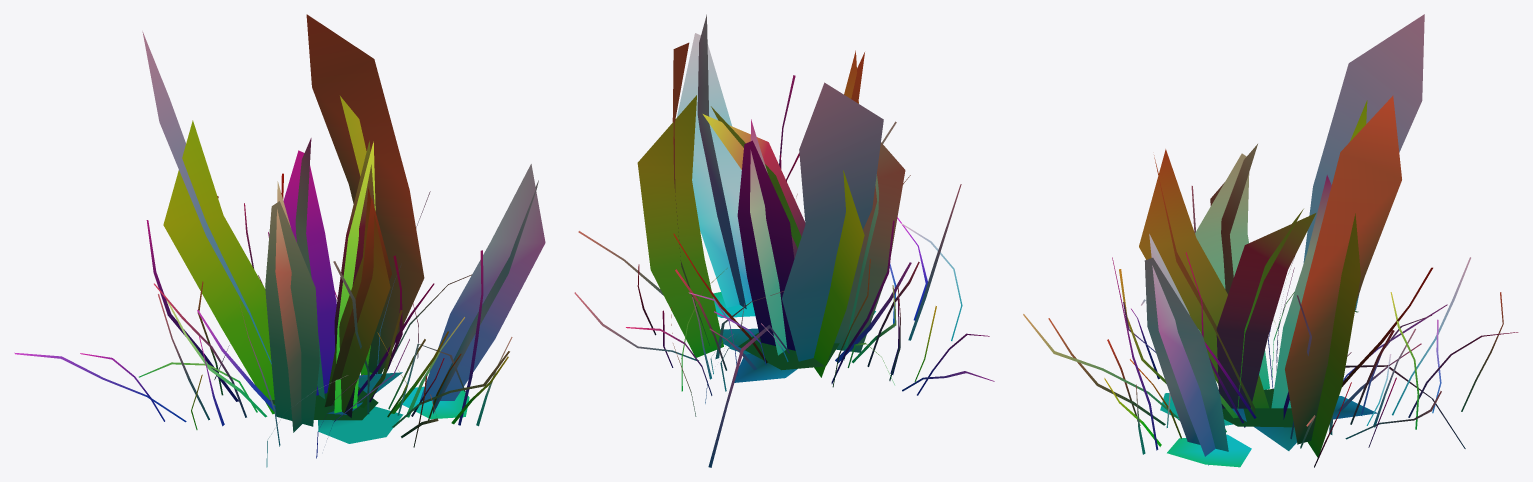
The model's file is uddmcgbia_VarB_LOD0.fbx.
The picture shows the model from 3 angles, left to right: view 1: azimuth 30°, elevation 25°; view 2: azimuth 150°, elevation 25°; view 3: azimuth 270°, elevation 25°; orthographic projection.
Parts seen in each view (by area): view 1: _e1b5_VarB_LOD1; view 2: _e1b5_VarB_LOD1; view 3: _e1b5_VarB_LOD1.
Part boxes in pixels (left/top/right/bottom): _e1b5_VarB_LOD1: left=14, top=14, right=545, bottom=467; _e1b5_VarB_LOD1: left=574, top=14, right=994, bottom=467; _e1b5_VarB_LOD1: left=1023, top=14, right=1518, bottom=467.
Size of the model in its own units: 15.55 by 12.84 by 14.8.
